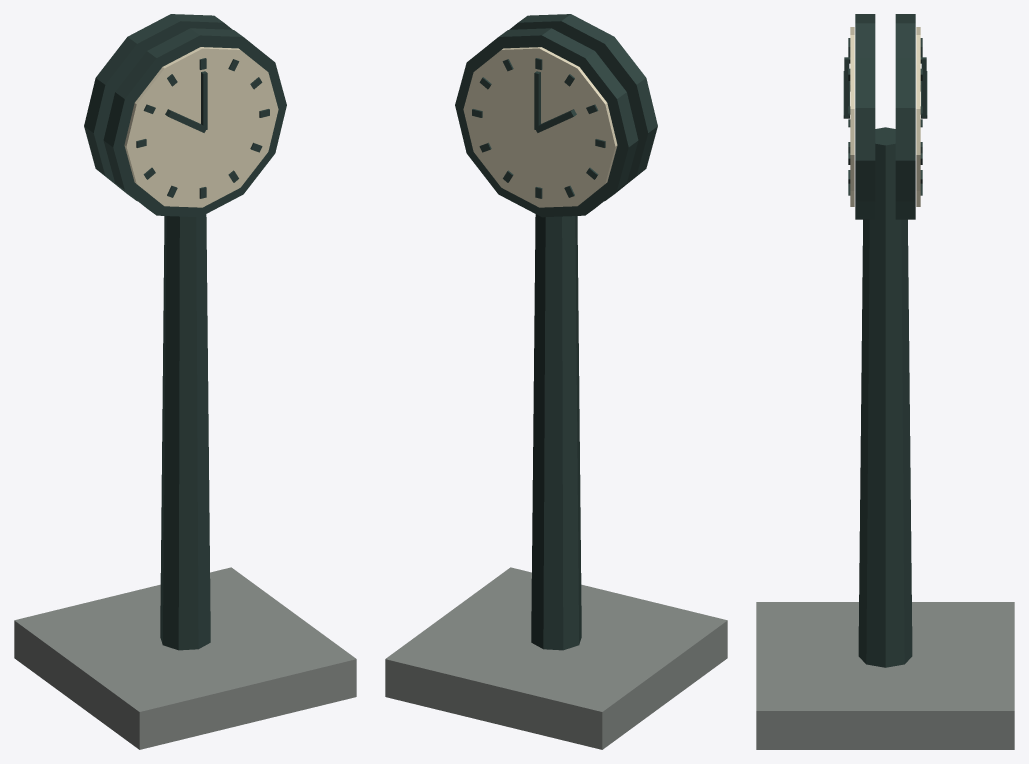
File: ClockColumn.obj
3 renders of one model, left to right at view 1: azimuth 30°, elevation 25°; view 2: azimuth 150°, elevation 25°; view 3: azimuth 270°, elevation 25°, orthographic. The views are drawn at different scales.
Visible parts, largest first — view 1: ClockColumn; view 2: ClockColumn; view 3: ClockColumn.
Part boxes in pixels (box(x1,y1,x2,y2)): ClockColumn: box(14, 14, 356, 749); ClockColumn: box(385, 14, 727, 749); ClockColumn: box(756, 14, 1014, 749).
Size of the model in its own units: 1.8 by 5.17 by 1.8.
1 material, 1 textured.
